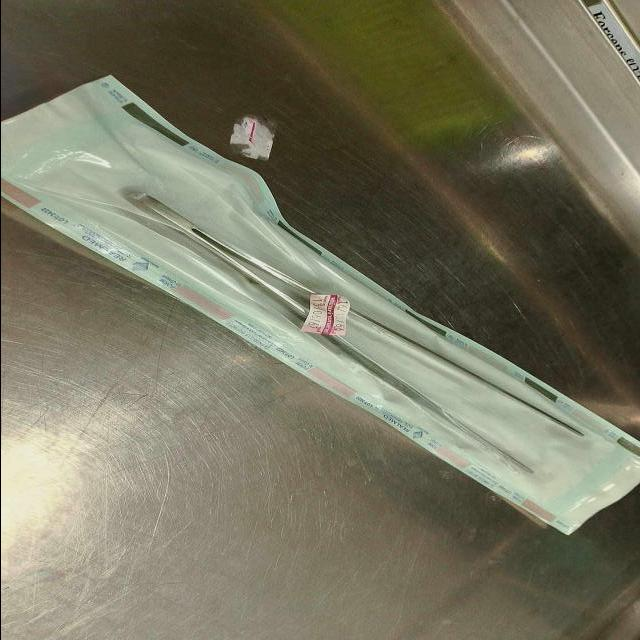General: (3, 71, 639, 537)
Sharps: (126, 189, 538, 475)
